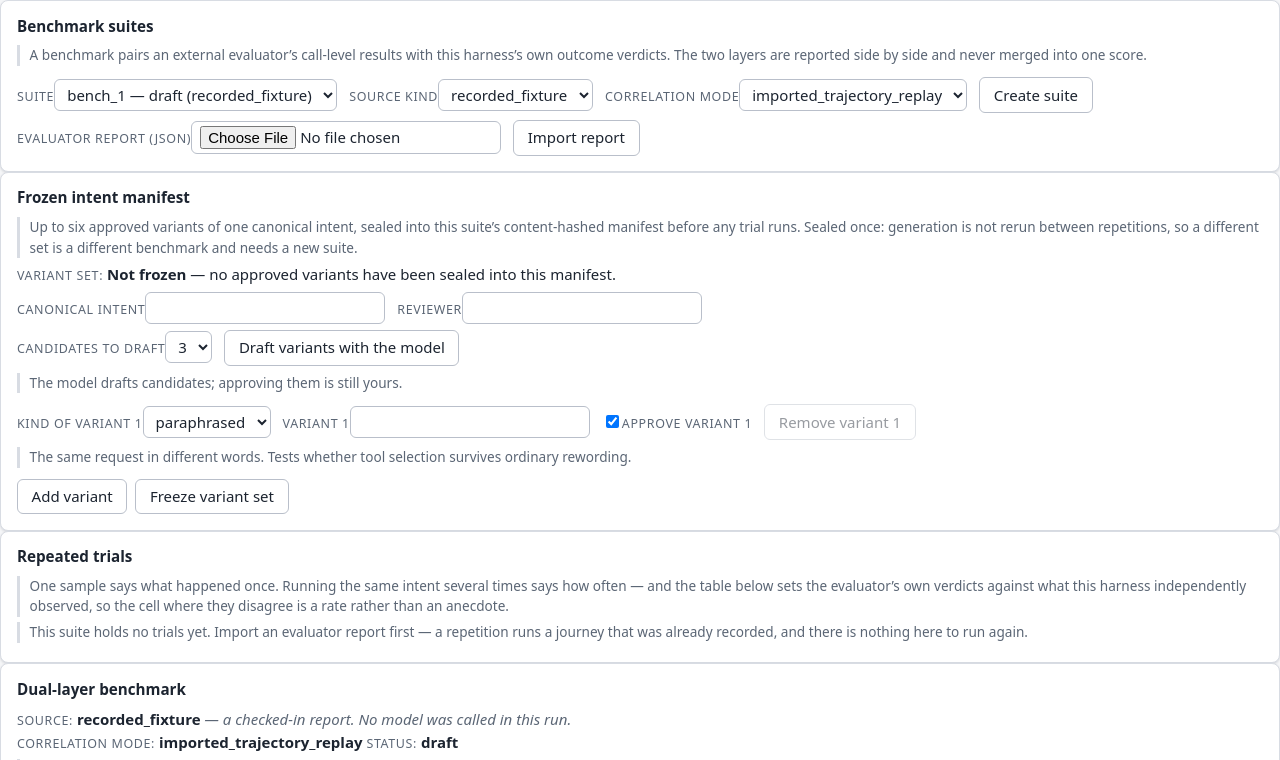
Test: BenchmarkSection — the frozen intent manifest › will not send an approval nobody signed
The image size is (1280, 760).
Type "Add one ceramic mug to the cart and apply the SAVE20 discount." into the field labelled "Canonical intent".
click(265, 308); type("Add one ceramic mug to the cart and apply the SAVE20 discount.")  # box [145,292,385,324]
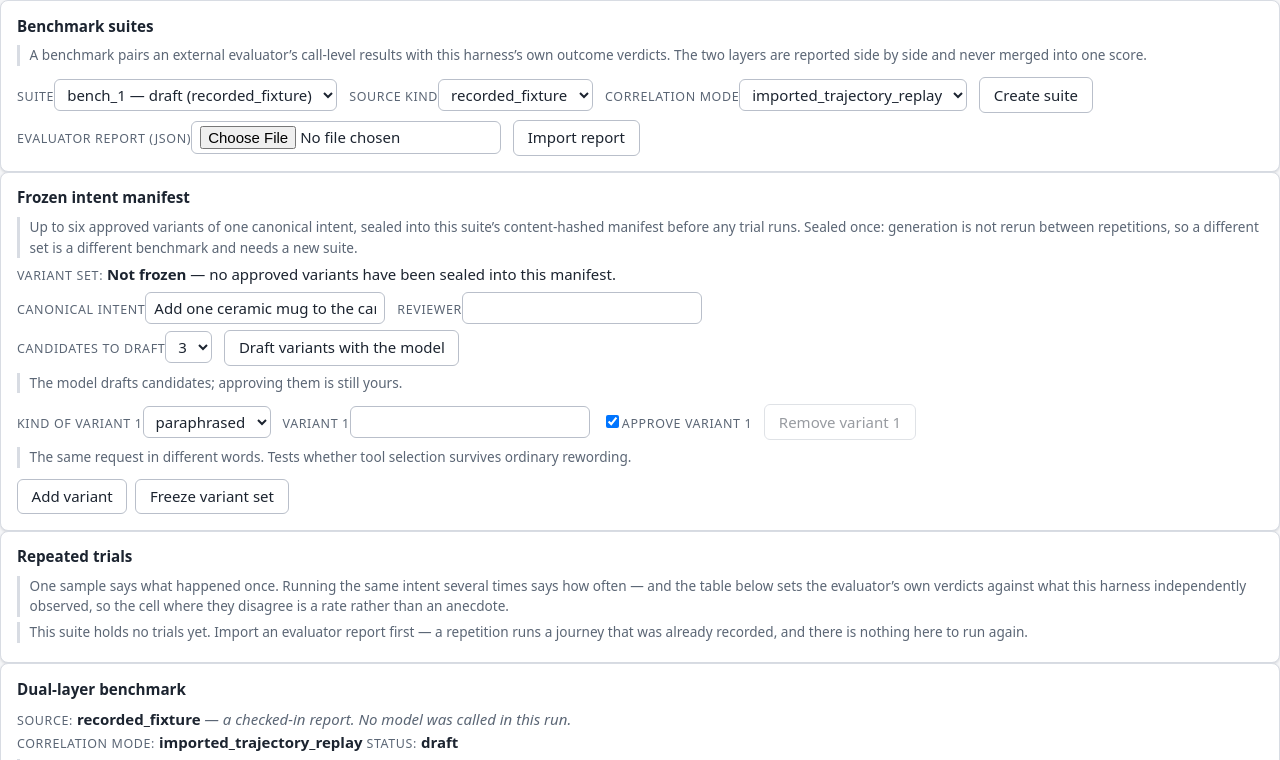
Type "Please add a ceramic mug and use the SAVE20 code." into the field labelled "Variant 1".
click(470, 422); type("Please add a ceramic mug and use the SAVE20 code.")  # box [350,406,590,438]
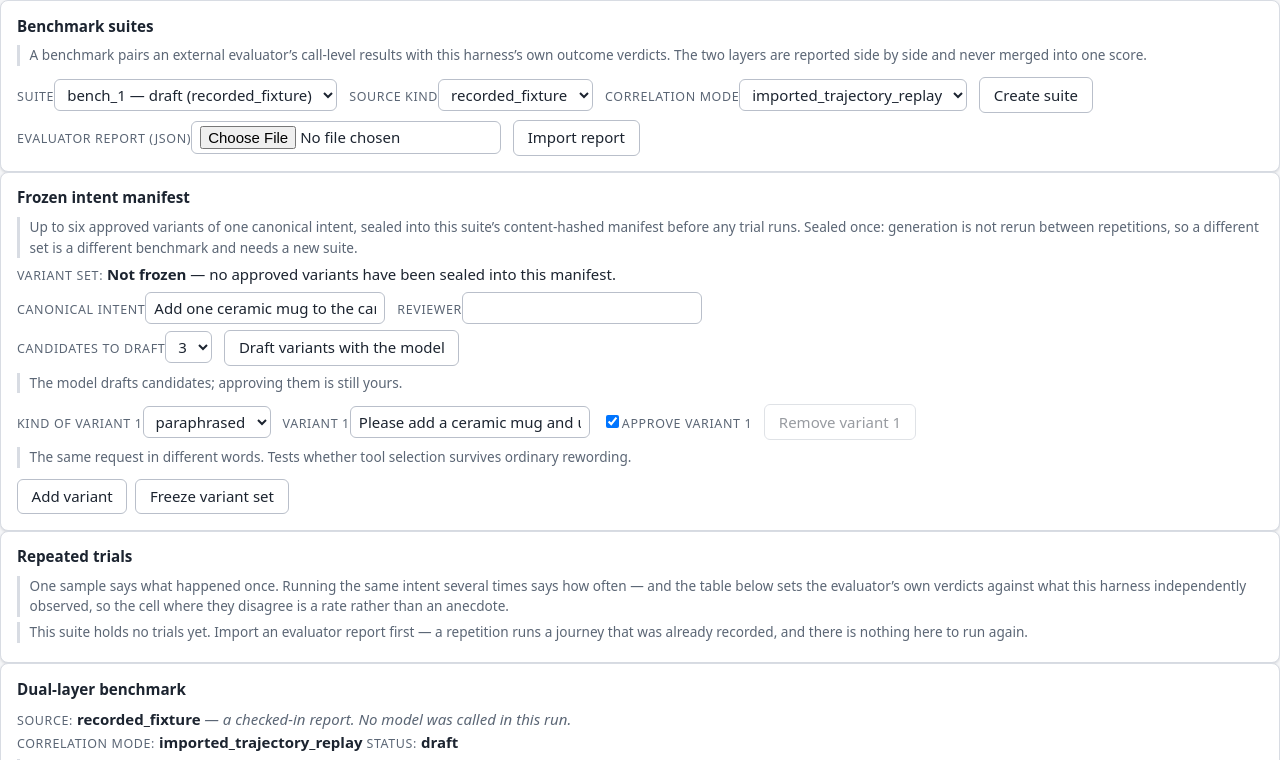
Act — reviewer left blank.
Click the button "Freeze variant set".
click(212, 497)  # box [135,479,288,514]
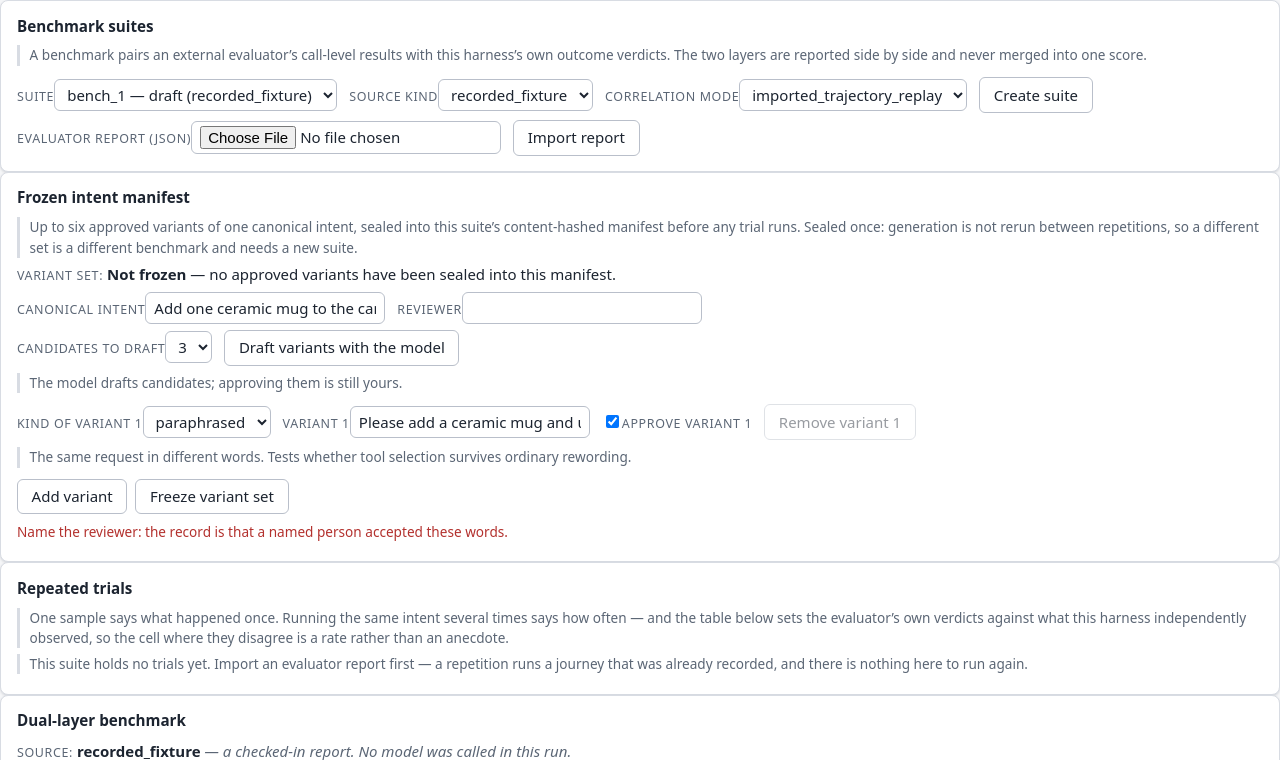
Check: the text "Name the reviewer: the record is that a named person accepted these words." is shown, box [17,522,508,541]
